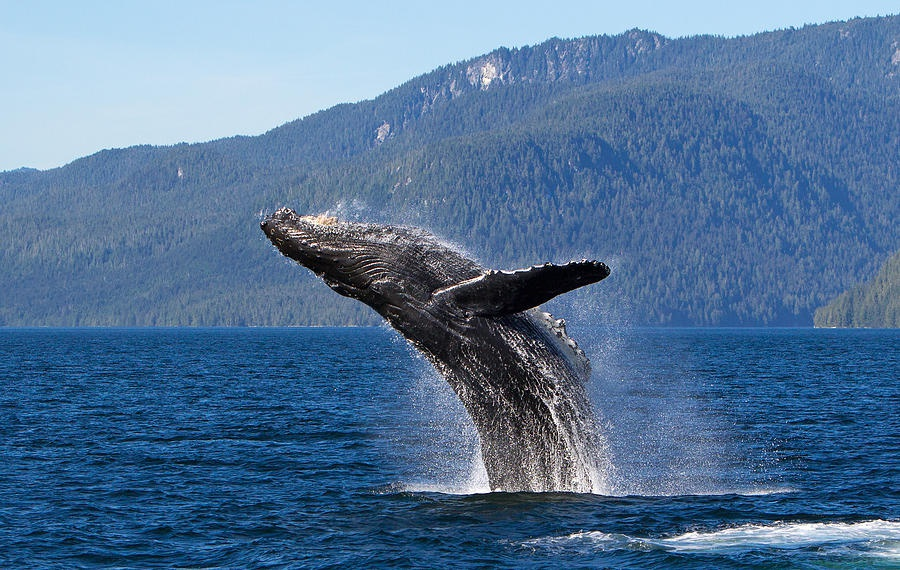humpback: (260, 208, 602, 491)
